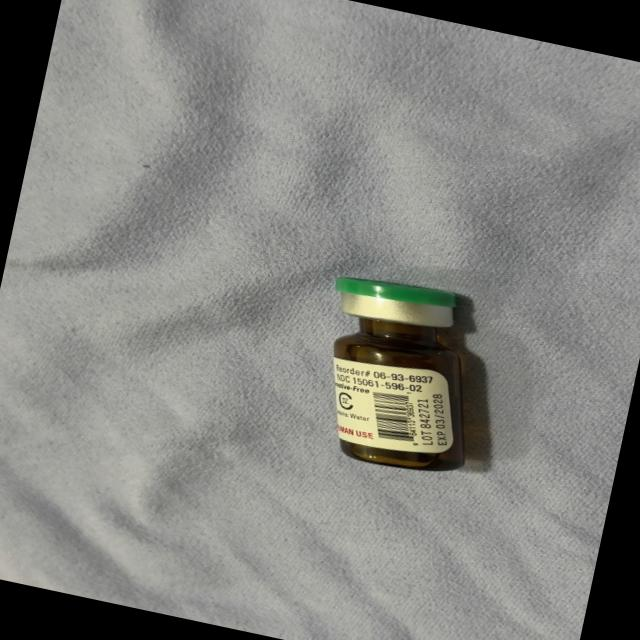midazolm: (302, 270, 494, 477)
